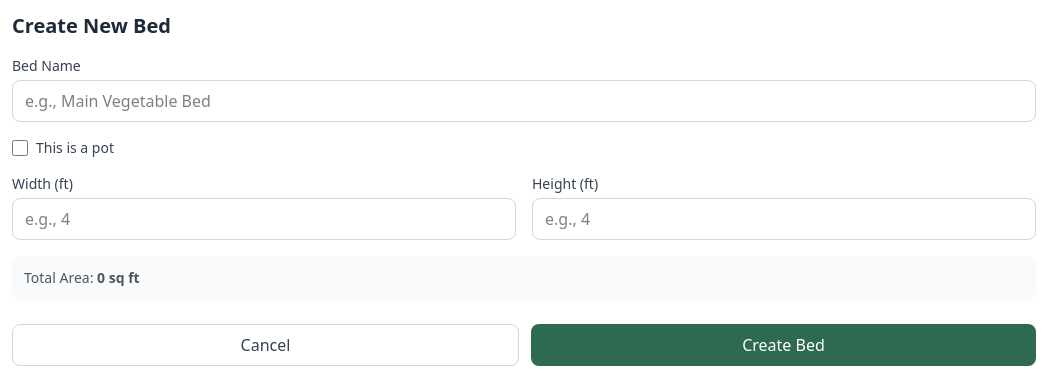
BedForm › rendering - pot mode › updates capacity when size changes
The image size is (1048, 383).
Step 1. Click the checkbox labelled "This is a pot" → (20, 148), box [12,140,28,156]
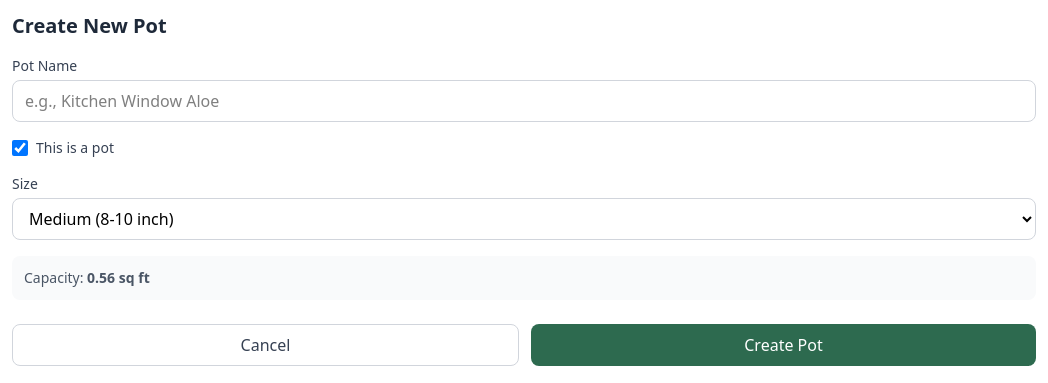
Step 2. Select "Large (12-14 inch)" in the dropdown labelled "Size" → (524, 219), box [12,198,1036,240]
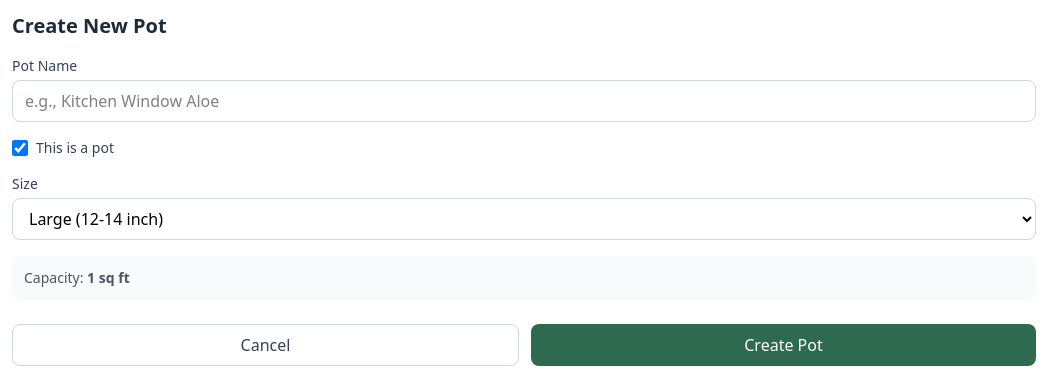
Expected: the text "1 sq ft" is shown, [87,268,130,287]
